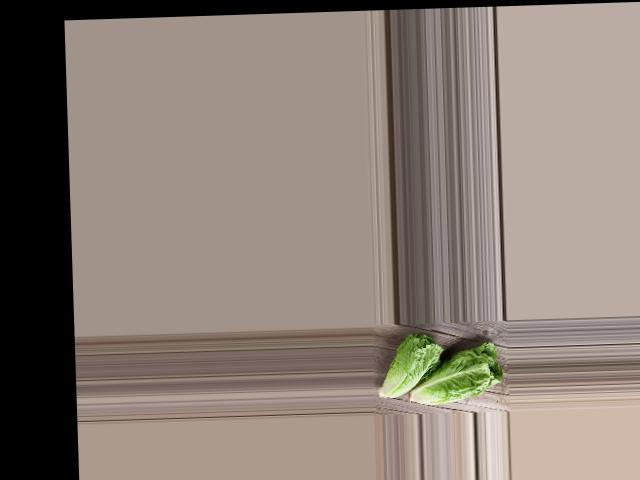lettuce: (372, 327, 446, 401)
